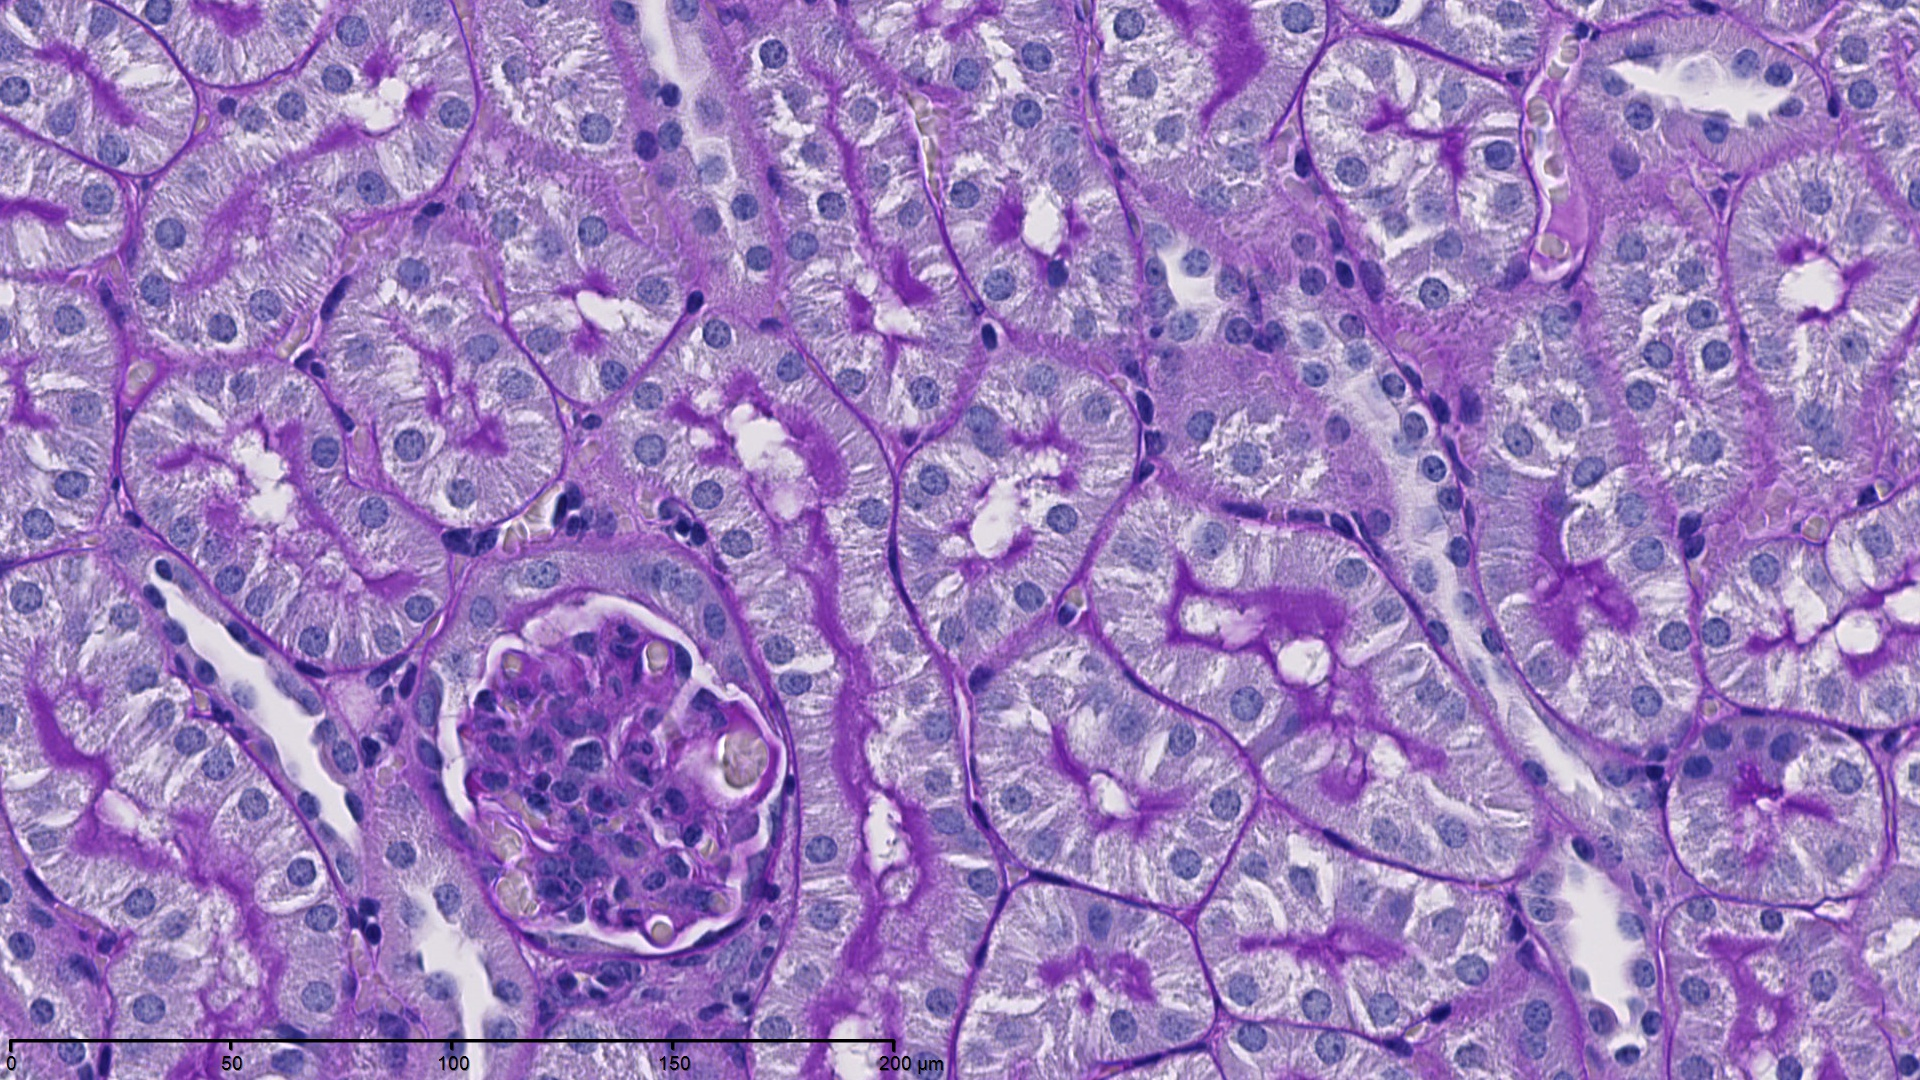Glomeruli: (435, 574, 814, 982)
